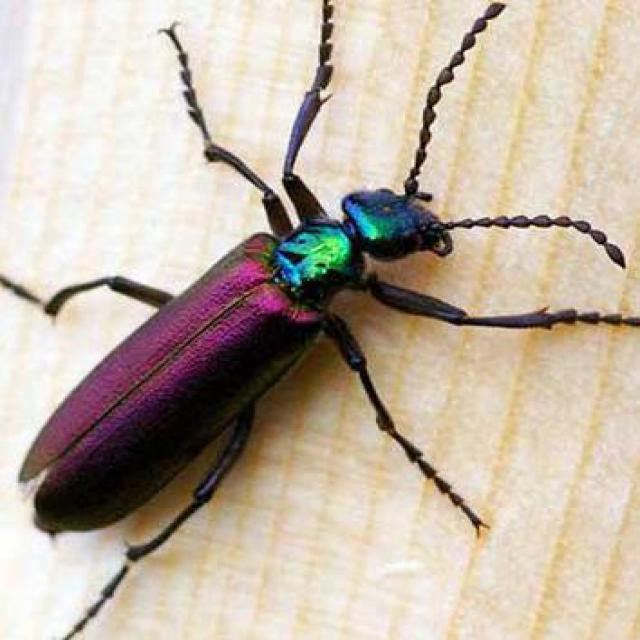BlisterBeetle-Adult-: (3, 38, 581, 576)
